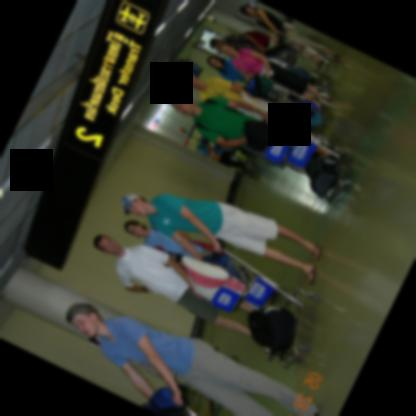backpack: (247, 306, 294, 354), (196, 97, 244, 131), (139, 383, 188, 416), (305, 156, 338, 197), (242, 119, 276, 153), (248, 74, 284, 102), (244, 29, 270, 48)
handbag: (220, 58, 274, 92), (149, 224, 215, 251), (141, 384, 188, 416), (200, 254, 236, 277), (248, 73, 264, 100), (239, 51, 256, 74), (270, 20, 296, 29)
suitcase: (306, 153, 339, 199)
